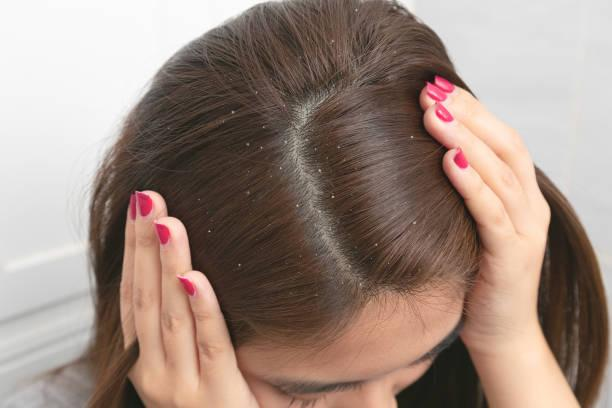dandruff: (328, 34, 342, 49), (247, 87, 262, 100), (233, 256, 246, 270), (226, 108, 240, 121), (191, 194, 206, 204), (367, 239, 382, 248), (409, 215, 419, 228), (408, 130, 418, 143), (201, 227, 213, 237), (325, 192, 338, 201), (280, 135, 289, 148), (242, 190, 252, 199), (277, 162, 284, 174), (245, 138, 252, 147)
